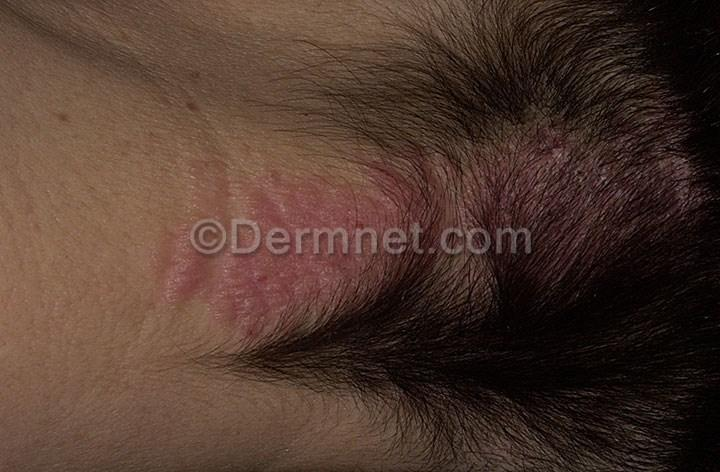Eczema: (141, 147, 399, 312), (405, 144, 561, 253), (558, 134, 699, 244)
